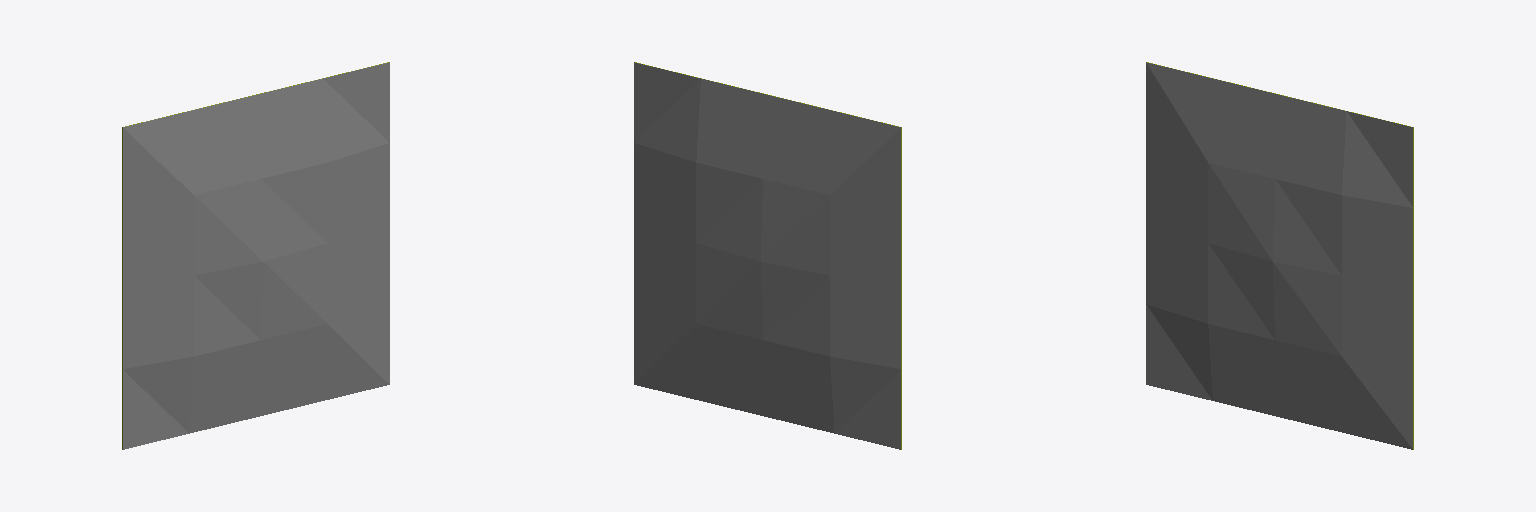
Rendered from gasanotejida10x10.obj.
3 views of the same model, side by side, from view 1: azimuth 30°, elevation 25°; view 2: azimuth 150°, elevation 25°; view 3: azimuth 330°, elevation 25° (orthographic).
Visible parts, largest first — view 1: c008; view 2: c008; view 3: c008.
Boxes of the visible parts, x1,y1,x2,y2 form: c008: [122, 62, 389, 449]; c008: [634, 62, 901, 449]; c008: [1146, 62, 1413, 449].
Size of the model in its own units: 0.6992 by 0.8061 by 0.0672.